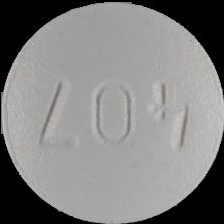43598-323: (0, 0, 224, 224)
